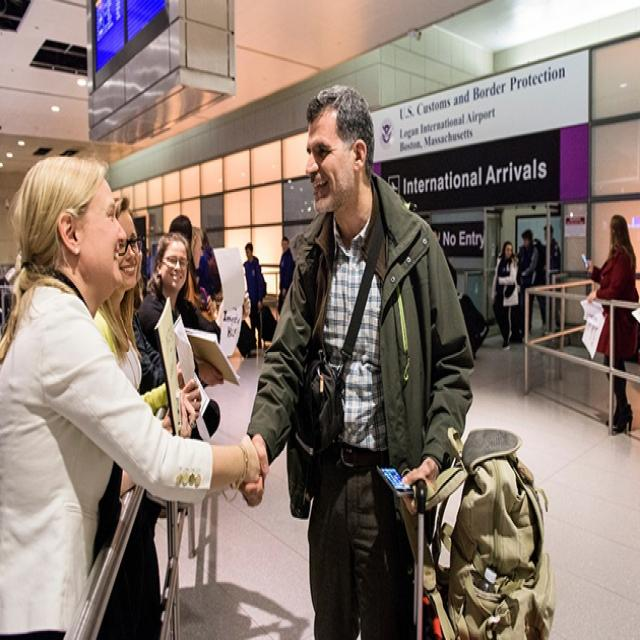body: (235, 80, 478, 638), (0, 148, 269, 638), (92, 194, 206, 638), (135, 230, 252, 389), (581, 212, 639, 437), (490, 238, 519, 352), (242, 242, 268, 354), (514, 227, 539, 341), (542, 224, 562, 331), (275, 233, 298, 320), (188, 226, 203, 271)
